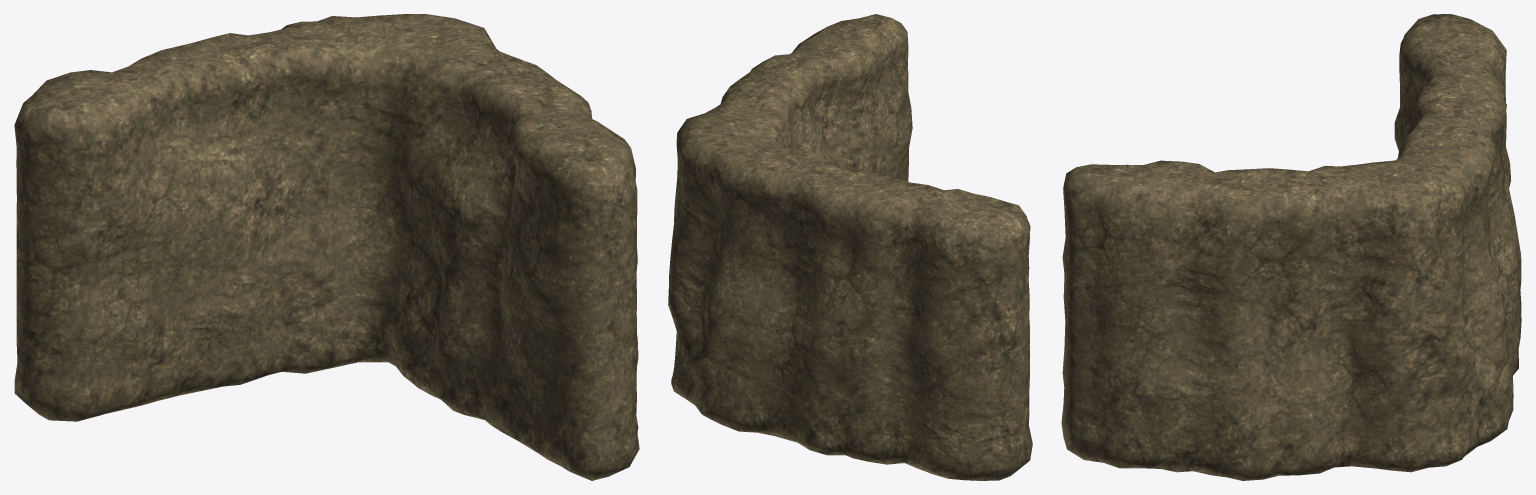
File: CaveWalls1_D.obj
The picture shows the model from 3 angles, left to right: view 1: azimuth 30°, elevation 25°; view 2: azimuth 150°, elevation 25°; view 3: azimuth 270°, elevation 25°; orthographic projection. The views are drawn at different scales.
Parts seen in each view (by area): view 1: CaveWalls1D; view 2: CaveWalls1D; view 3: CaveWalls1D.
Boxes of the visible parts, x1,y1,x2,y2 form: CaveWalls1D: [14, 14, 639, 480]; CaveWalls1D: [668, 14, 1032, 480]; CaveWalls1D: [1061, 14, 1521, 480].
Bounding box in the file's own units: 50.66 × 33.39 × 48.87.
Materials: 1 (1 with a texture image).
